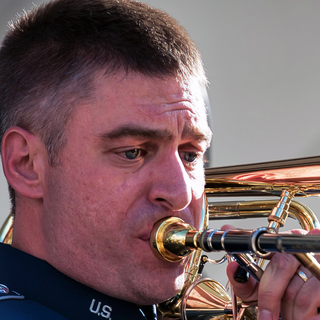eye: (107, 142, 155, 165), (176, 143, 204, 165)
